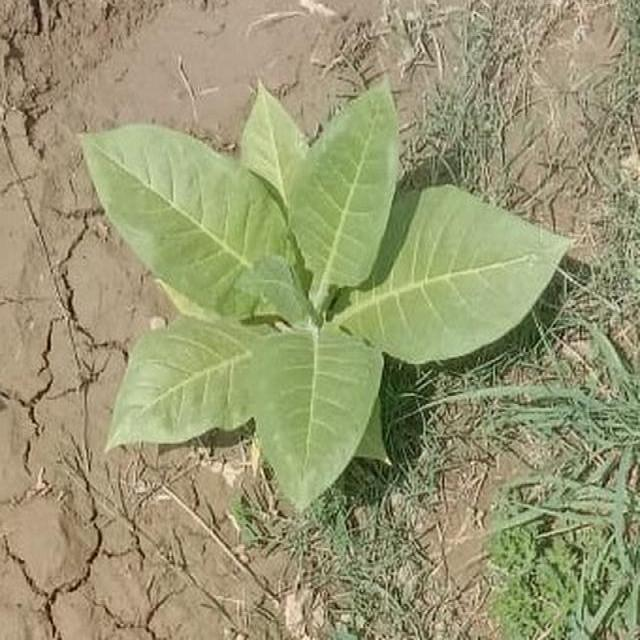crop: (81, 91, 566, 502)
